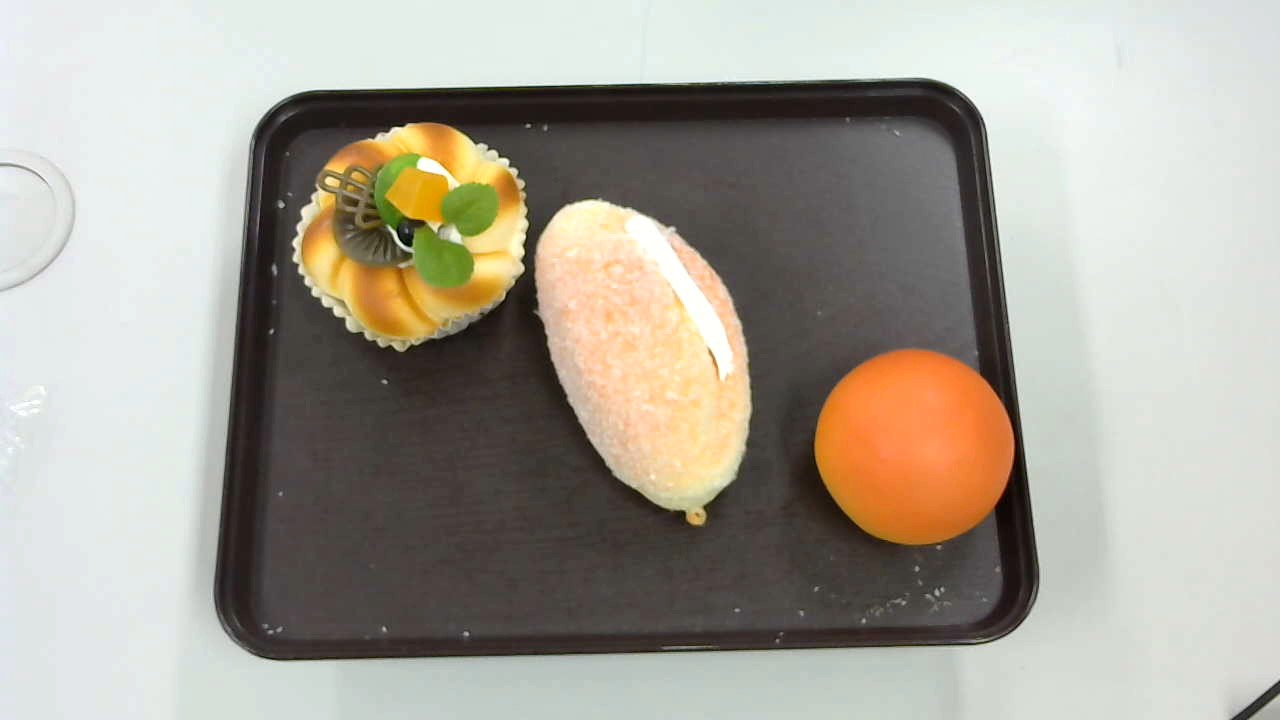bun: (814, 348, 1015, 545)
coconut: (533, 198, 754, 527)
fruit tart: (292, 120, 529, 354)
